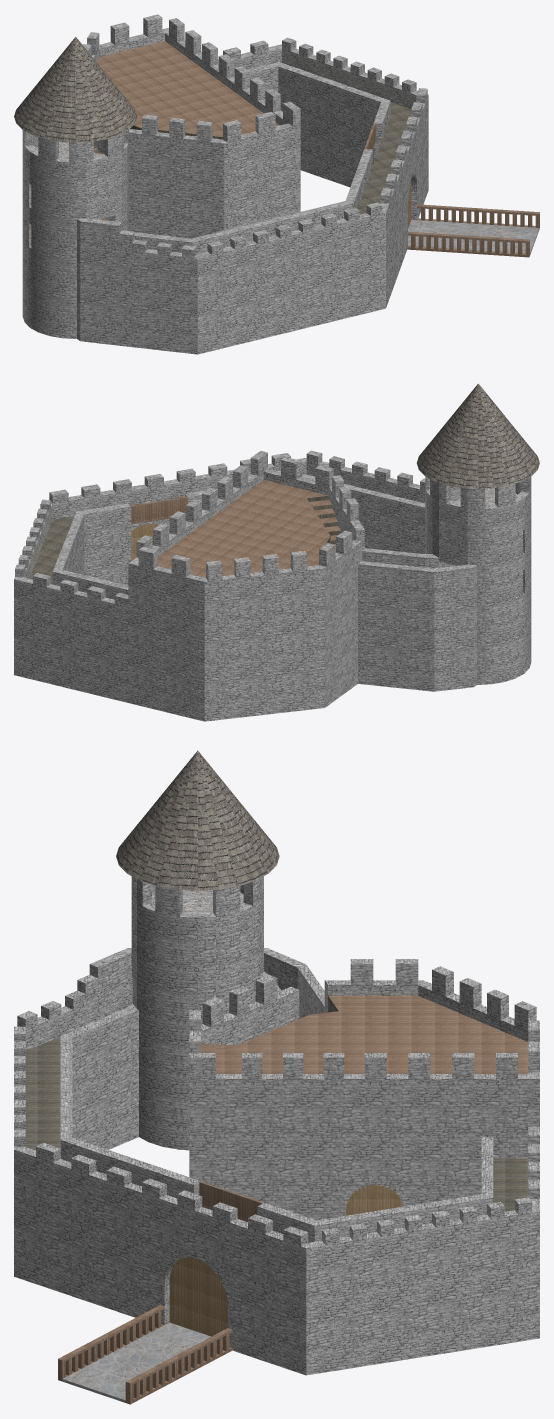
The picture shows the model from 3 angles, top to bottom: view 1: azimuth 30°, elevation 25°; view 2: azimuth 150°, elevation 25°; view 3: azimuth 270°, elevation 25°; orthographic projection. The views are drawn at different scales.
Parts seen in each view (by area): view 1: Wildsgate_Keep (×6), Group_49, rooftop1; view 2: Wildsgate_Keep (×6), Group_49, rooftop1; view 3: Wildsgate_Keep (×10), Group_49 (×2), rooftop1.
Boxes of the visible parts, box(x1,y1,x2,y2) form: Wildsgate_Keep (×6): box(83, 14, 539, 354); Group_49: box(22, 130, 128, 345); rooftop1: box(14, 37, 137, 142); Wildsgate_Keep (×6): box(14, 450, 434, 721); Group_49: box(423, 476, 531, 691); rooftop1: box(416, 383, 539, 489); Wildsgate_Keep (×10): box(14, 959, 539, 1404); Group_49 (×2): box(89, 876, 305, 1150); rooftop1: box(116, 750, 279, 890).
Size of the model in its own units: 1545 by 1080 by 840.
8 materials, 7 textured.
